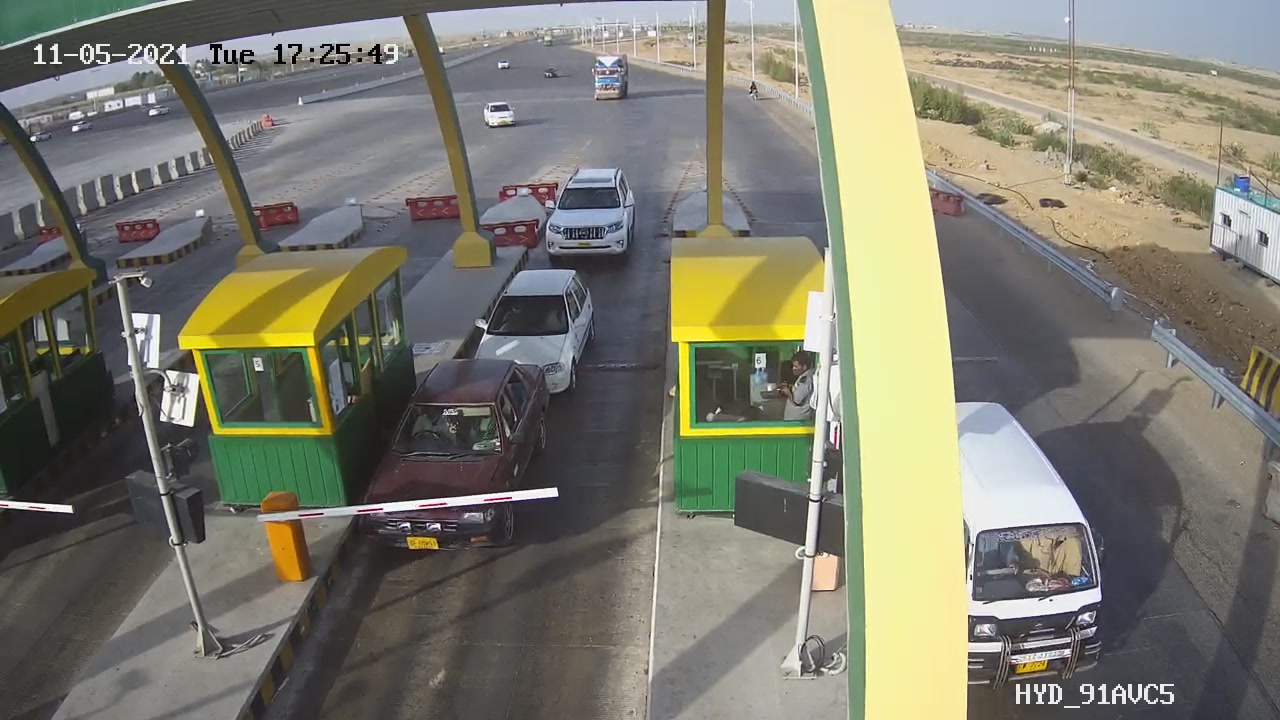F1: (351, 344, 566, 572), (459, 255, 609, 416), (531, 156, 650, 275)
